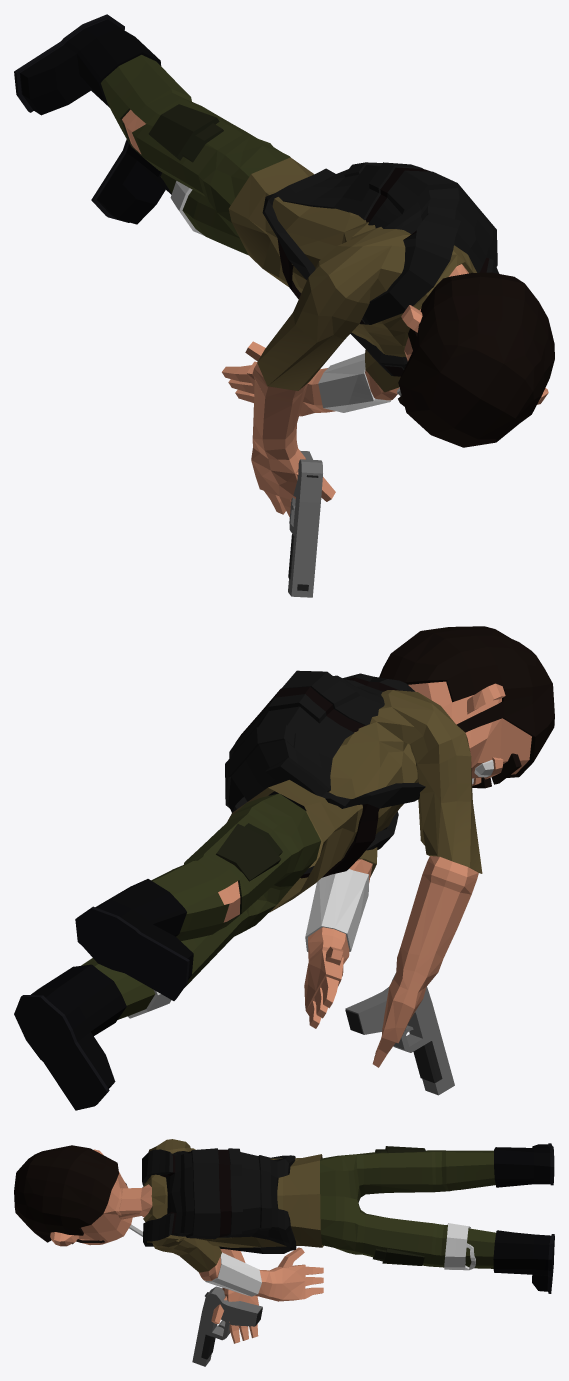
File: frame_0029.obj
3 views of the same model, one above another, from view 1: azimuth 30°, elevation 25°; view 2: azimuth 150°, elevation 25°; view 3: azimuth 270°, elevation 25° (orthographic). The views are drawn at different scales.
Visible parts, largest first — view 1: Body, Gun; view 2: Body, Gun; view 3: Body, Gun.
Part boxes in pixels (left/top/right/bottom): Body: left=14, top=14, right=554, bottom=517; Gun: left=288, top=450, right=322, bottom=597; Body: left=14, top=626, right=554, bottom=1110; Gun: left=345, top=972, right=454, bottom=1095; Body: left=14, top=1139, right=554, bottom=1343; Gun: left=192, top=1286, right=262, bottom=1366.
Size of the model in its own units: 1.31 by 2.13 by 4.15.
